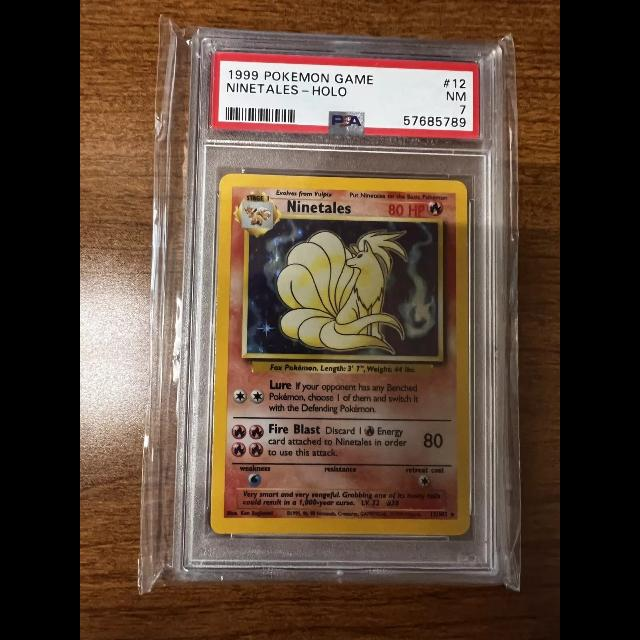card: (210, 173, 469, 536)
psa_label: (210, 50, 480, 140)
psa_slab: (172, 27, 507, 583)
